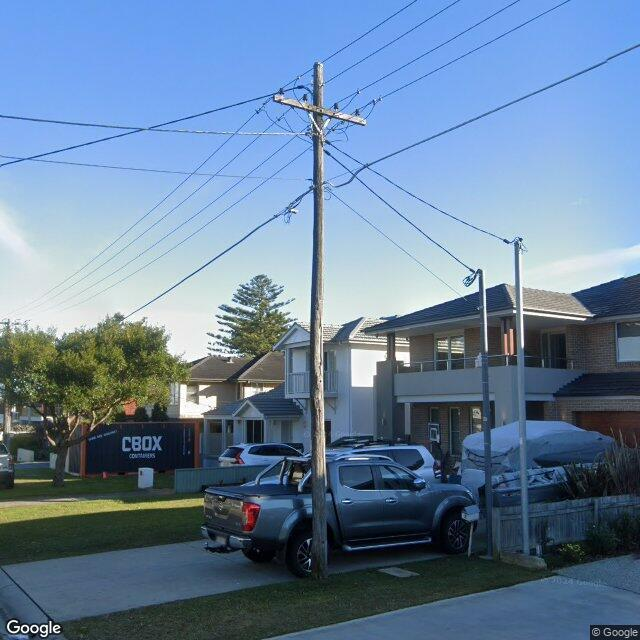crossarm: (270, 94, 368, 129)
steel-pole: (477, 268, 495, 556), (514, 240, 530, 554)
timber-pole: (314, 61, 326, 578)
